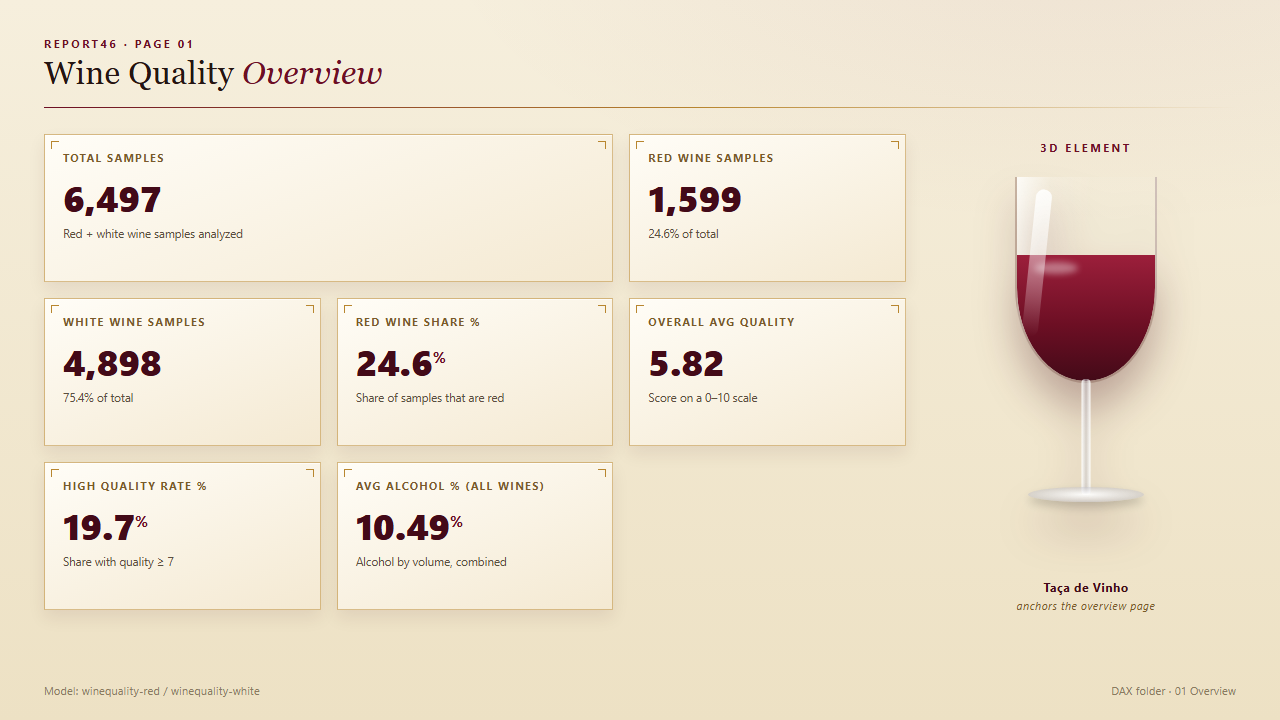

The page's visual inventory and layout, read from the dashboard file:
{"tool":"powerbi","page":{"name":"Overview","canvas":[1280,720],"ordinal":0},"visuals":[{"type":"cardVisual","fields":{"Data":["_Measures.Total Samples"]},"box":[45.3,130.4,568.1,149.6],"z":0},{"type":"cardVisual","fields":{"Data":["_Measures.Red Wine Samples"]},"box":[628.5,130.4,279.9,149.6],"z":1000},{"type":"cardVisual","fields":{"Data":["_Measures.White Wine Samples"]},"box":[45.3,299.3,281.2,149.6],"z":2000},{"type":"cardVisual","fields":{"Data":["_Measures.Red Wine Share %"]},"box":[332.5,299.3,281.2,149.6],"z":3000},{"type":"cardVisual","fields":{"Data":["_Measures.Overall Avg Quality"]},"box":[628.8,299.3,281.2,149.6],"z":4000},{"type":"cardVisual","fields":{"Data":["_Measures.High Quality Rate %"]},"box":[45.3,459.5,281.2,149.6],"z":5000},{"type":"cardVisual","fields":{"Data":["_Measures.Avg Alcohol % (All Wines)"]},"box":[332.5,459.5,281.2,149.6],"z":6000},{"type":"pageNavigator","box":[158.7,669.6,799.6,49.9],"z":7000}]}

Visuals, with their boxes in screenshot pixels (x1, y1, x2, y2), scaled from the page's 1280x720 canvas onto the 1280x720 screenshot:
cardVisual - _Measures.Total Samples: 45/130/613/280
cardVisual - _Measures.Red Wine Samples: 628/130/908/280
cardVisual - _Measures.White Wine Samples: 45/299/326/449
cardVisual - _Measures.Red Wine Share %: 332/299/614/449
cardVisual - _Measures.Overall Avg Quality: 629/299/910/449
cardVisual - _Measures.High Quality Rate %: 45/460/326/609
cardVisual - _Measures.Avg Alcohol % (All Wines): 332/460/614/609
pageNavigator: 159/670/958/719
